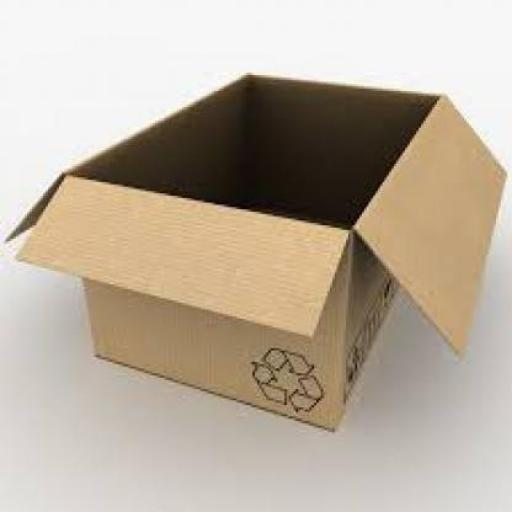cardboard: (2, 71, 505, 430)
